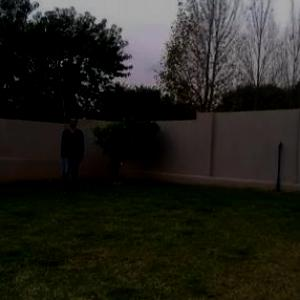follow: (60, 111, 81, 196)
